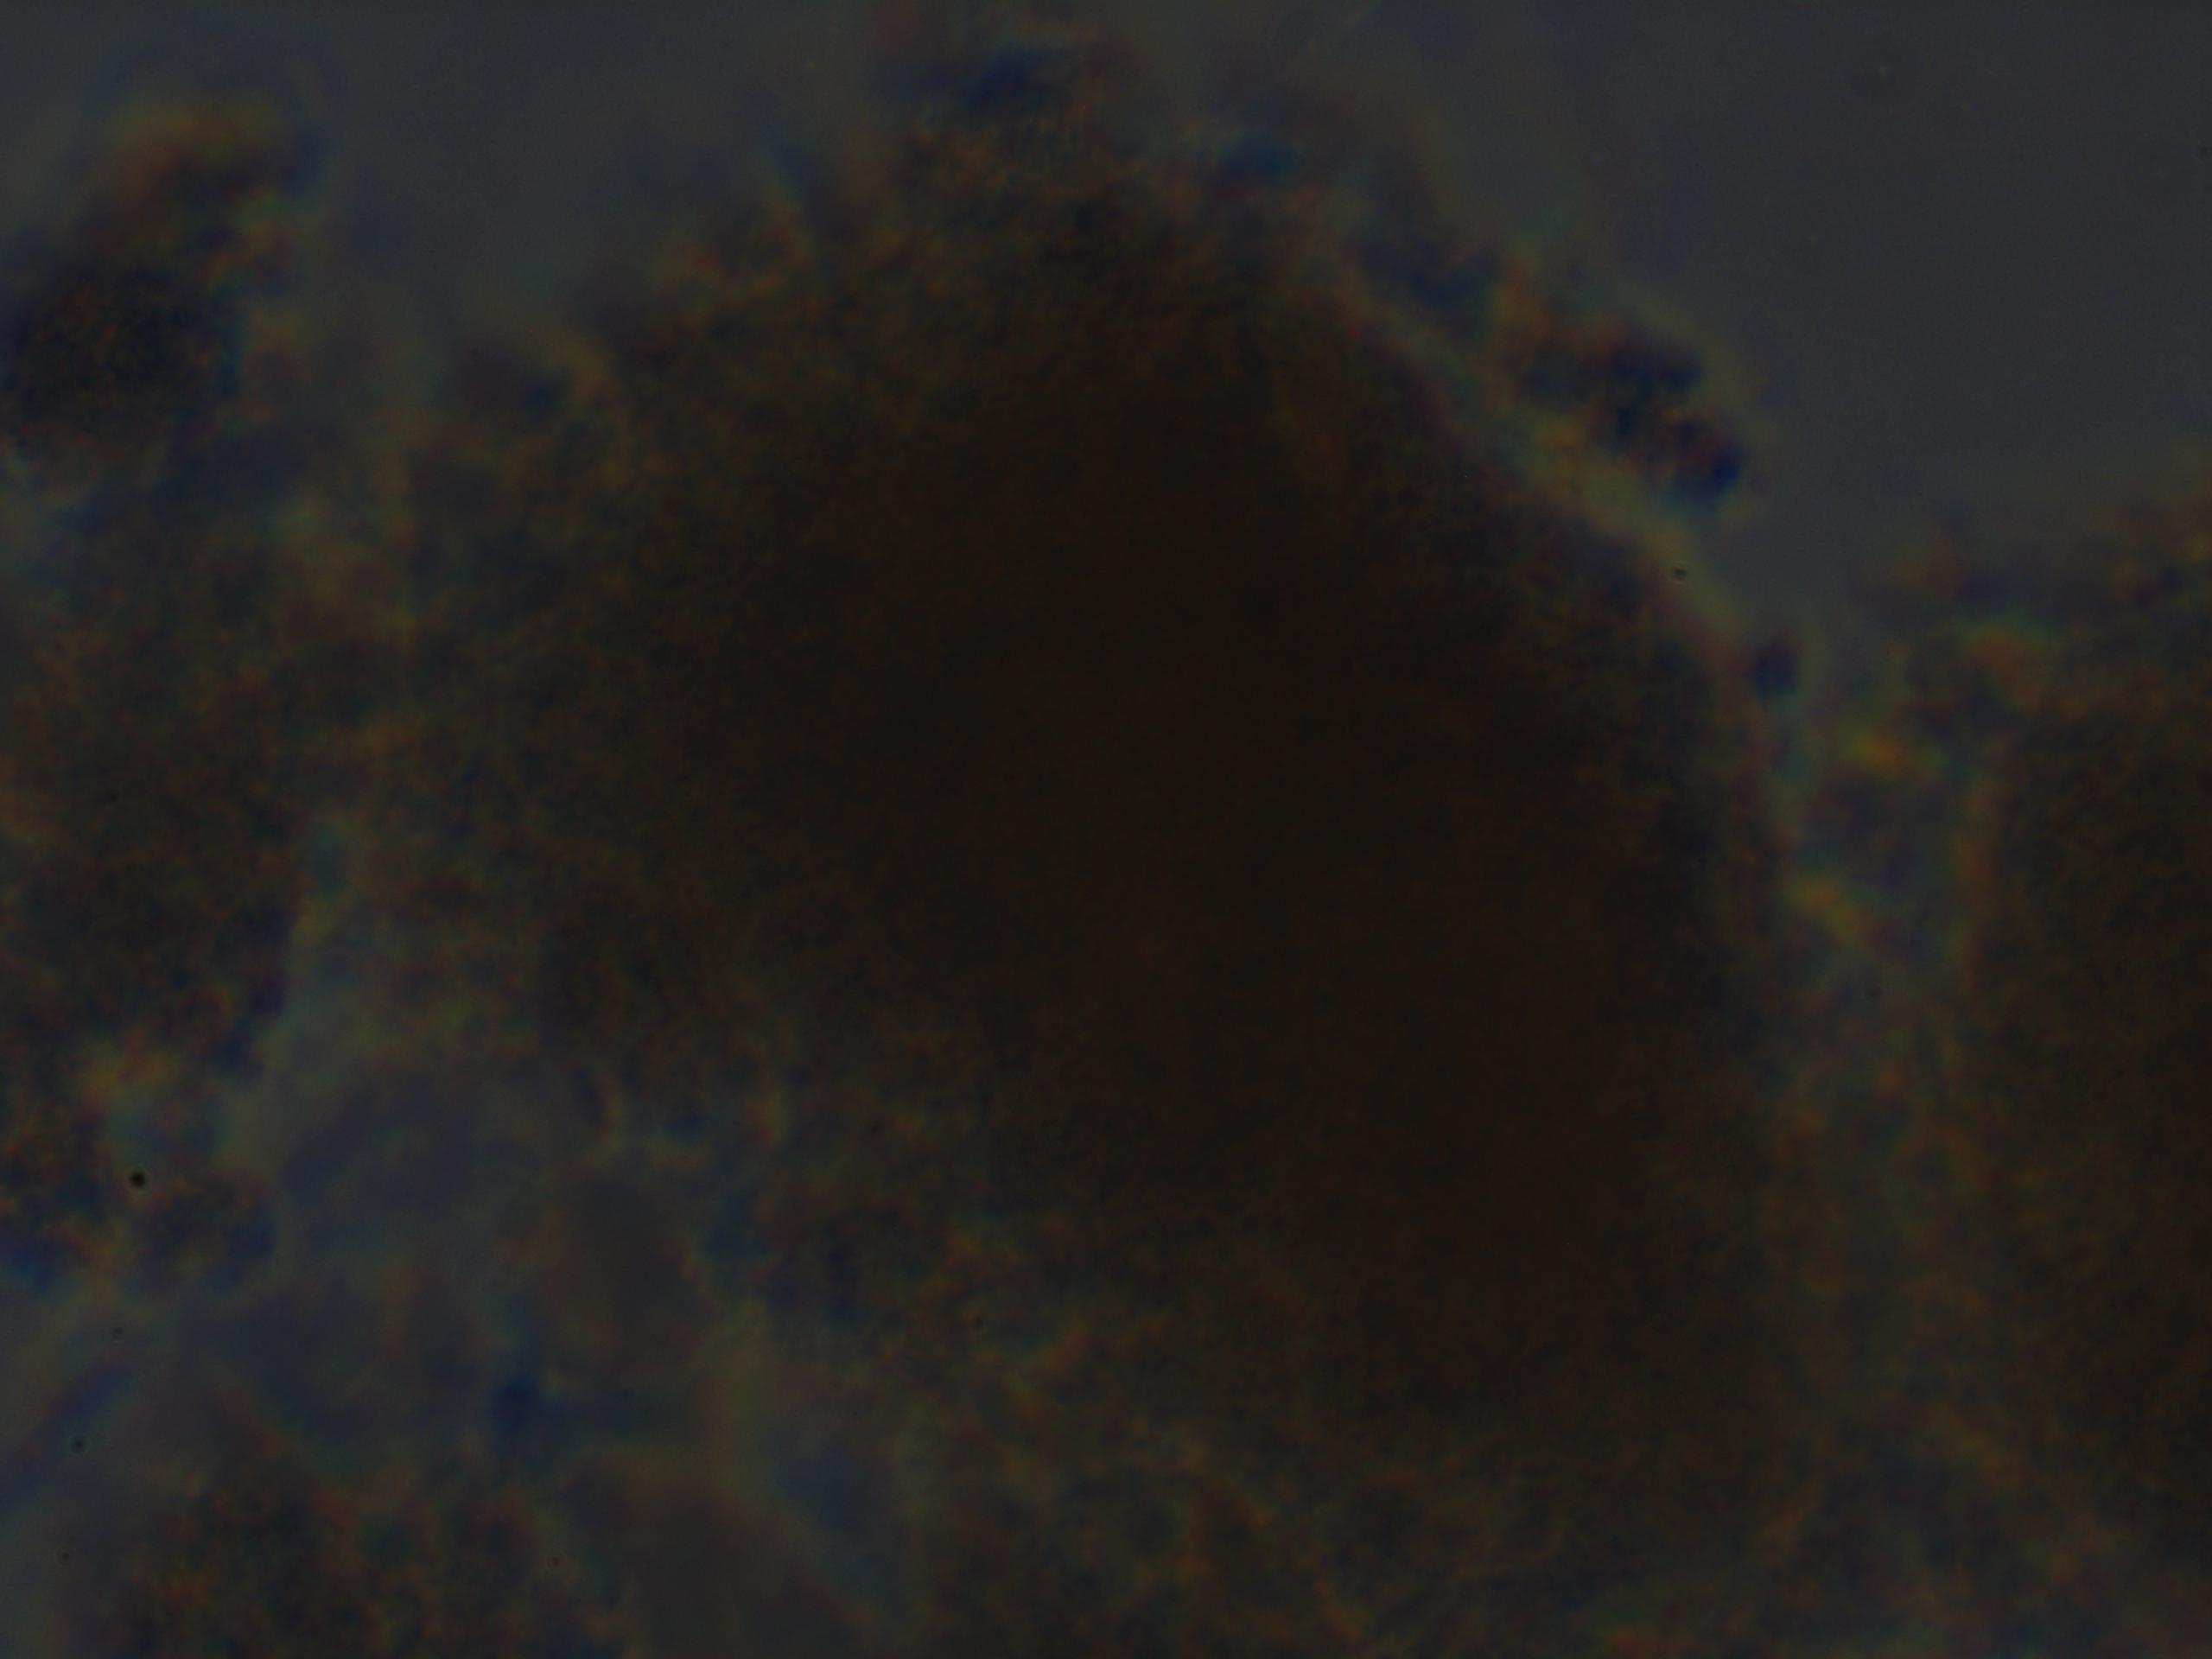spherical_floc: (442, 113, 1831, 1567)
